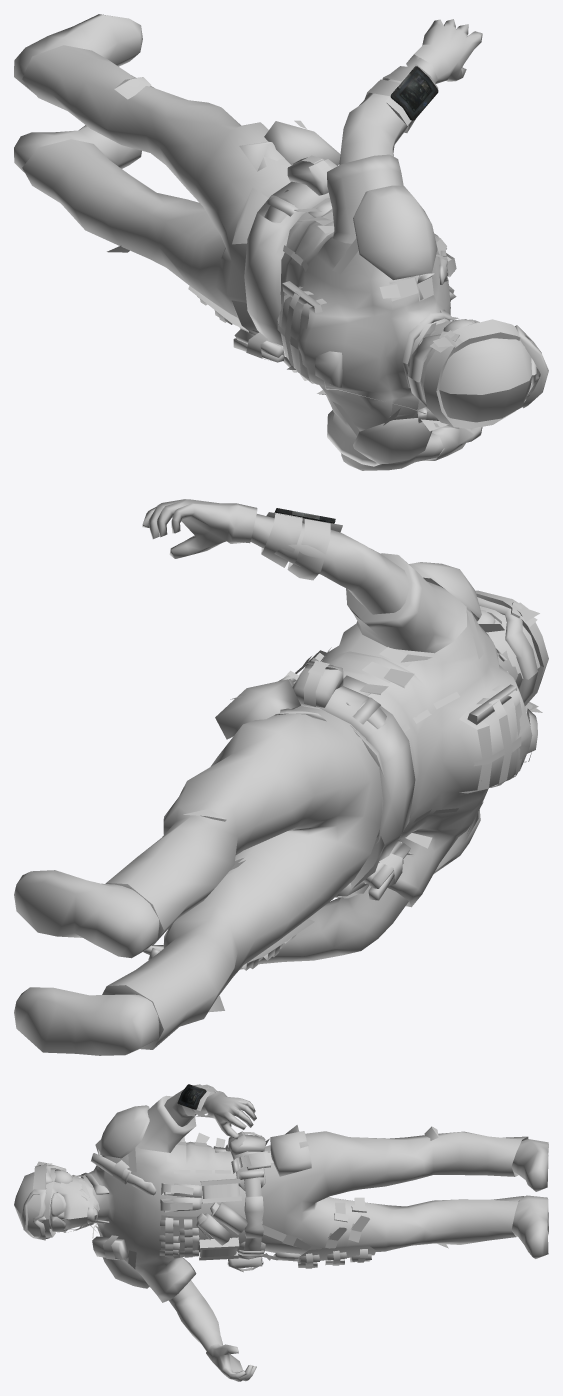
Rendered from c_mul_mp_pmc_shotgun_fb_LOD1.obj.
3 views of the same model, one above another, from view 1: azimuth 30°, elevation 25°; view 2: azimuth 150°, elevation 25°; view 3: azimuth 270°, elevation 25° (orthographic). The views are drawn at different scales.
Parts seen in each view (by area): view 1: mtl_c_mul_mp_pmc_lbr, mtl_c_mul_mp_pmc_upperbody2, mtl_c_mul_mp_pmc_gear_main_1, mtl_c_mul_mp_pmc_shot_gear, mtl_c_mul_mp_pmc_helmet1, mtl_c_gen_arm_clean_brown, mtl_c_mul_mp_pmc_gloves2, mtl_c_gen_mp_datapad; view 2: mtl_c_mul_mp_pmc_lbr, mtl_c_mul_mp_pmc_upperbody2, mtl_c_mul_mp_pmc_gear_main_1, mtl_c_gen_arm_clean_brown, mtl_c_mul_mp_pmc_shot_gear, mtl_c_mul_mp_pmc_gloves2, mtl_c_mul_mp_pmc_helmet1, mtl_c_mul_mp_pmc_balaclava; view 3: mtl_c_mul_mp_pmc_lbr, mtl_c_mul_mp_pmc_upperbody2, mtl_c_mul_mp_pmc_gear_main_1, mtl_c_mul_mp_pmc_shot_gear, mtl_c_mul_mp_pmc_gloves2, mtl_c_mul_mp_pmc_helmet1, mtl_c_gen_arm_clean_brown, mtl_c_mul_mp_pmc_balaclava, mtl_c_mul_mp_pmc_glasses, mtl_c_gen_mp_datapad.
Boxes of the visible parts, x1,y1,x2,y2 form: mtl_c_mul_mp_pmc_lbr: (22, 45, 291, 330); mtl_c_mul_mp_pmc_upperbody2: (277, 154, 450, 466); mtl_c_mul_mp_pmc_gear_main_1: (14, 14, 453, 426); mtl_c_mul_mp_pmc_shot_gear: (197, 64, 456, 464); mtl_c_mul_mp_pmc_helmet1: (407, 317, 548, 431); mtl_c_gen_arm_clean_brown: (339, 57, 443, 470); mtl_c_mul_mp_pmc_gloves2: (406, 19, 482, 460); mtl_c_gen_mp_datapad: (390, 66, 438, 120); mtl_c_mul_mp_pmc_lbr: (102, 706, 385, 1049); mtl_c_mul_mp_pmc_upperbody2: (301, 553, 532, 907); mtl_c_mul_mp_pmc_gear_main_1: (14, 675, 537, 1055); mtl_c_gen_arm_clean_brown: (250, 514, 408, 964); mtl_c_mul_mp_pmc_shot_gear: (215, 512, 481, 970); mtl_c_mul_mp_pmc_gloves2: (142, 499, 257, 969); mtl_c_mul_mp_pmc_helmet1: (475, 590, 548, 712); mtl_c_mul_mp_pmc_balaclava: (477, 610, 522, 688); mtl_c_mul_mp_pmc_lbr: (261, 1125, 528, 1254); mtl_c_mul_mp_pmc_upperbody2: (81, 1095, 246, 1302); mtl_c_mul_mp_pmc_gear_main_1: (81, 1139, 548, 1268); mtl_c_mul_mp_pmc_shot_gear: (100, 1084, 371, 1288); mtl_c_mul_mp_pmc_gloves2: (204, 1091, 256, 1381); mtl_c_mul_mp_pmc_helmet1: (14, 1161, 97, 1240); mtl_c_gen_arm_clean_brown: (164, 1084, 223, 1351); mtl_c_mul_mp_pmc_balaclava: (49, 1170, 99, 1232); mtl_c_mul_mp_pmc_glasses: (27, 1193, 66, 1236); mtl_c_gen_mp_datapad: (177, 1084, 206, 1109).
Size of the model in its own units: 67.54 by 106 by 185.
